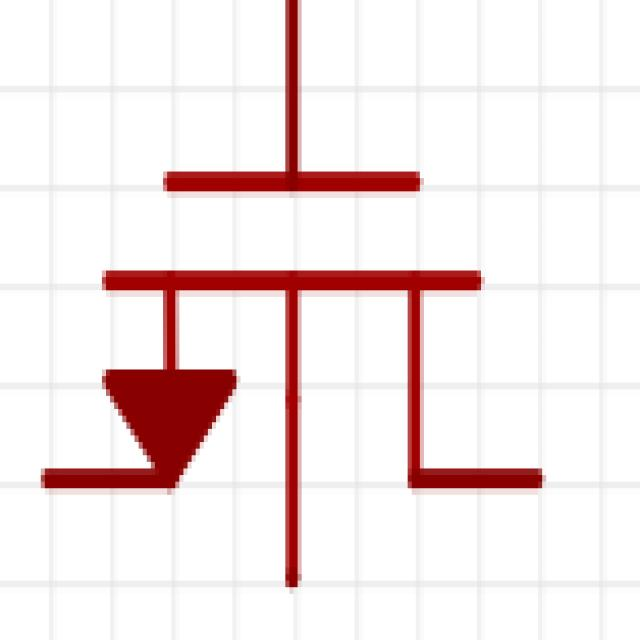nmos: (33, 2, 572, 590)
